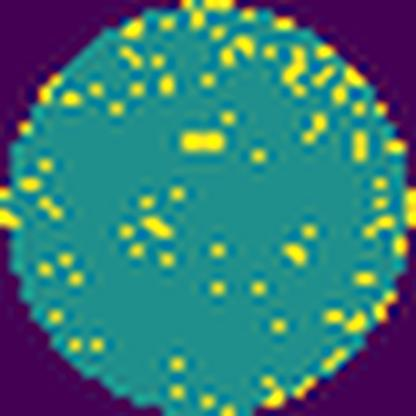Loc: (176, 130, 230, 151)
